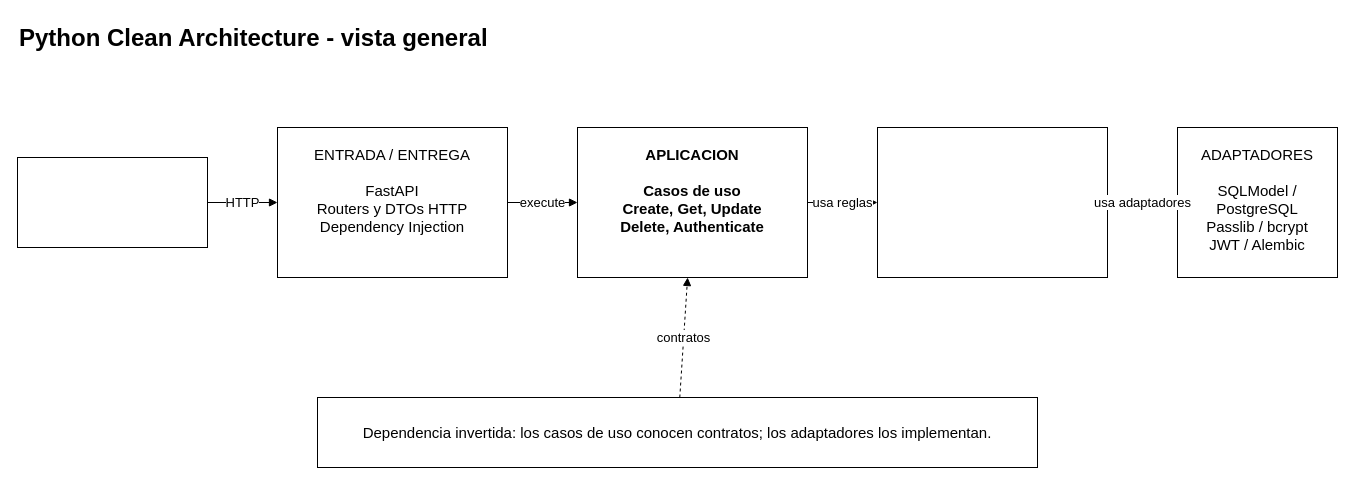
This 1355x485 diagram has some shape labels left out. Here are the shapes that lost their labels. From the top down, the centre of each, then its label:
At [112,202]: "Cliente HTTP Web / Mobile / Postman".
At [992,202]: "DOMINIO Entidad User Email, Password, ID Reglas y excepciones".
